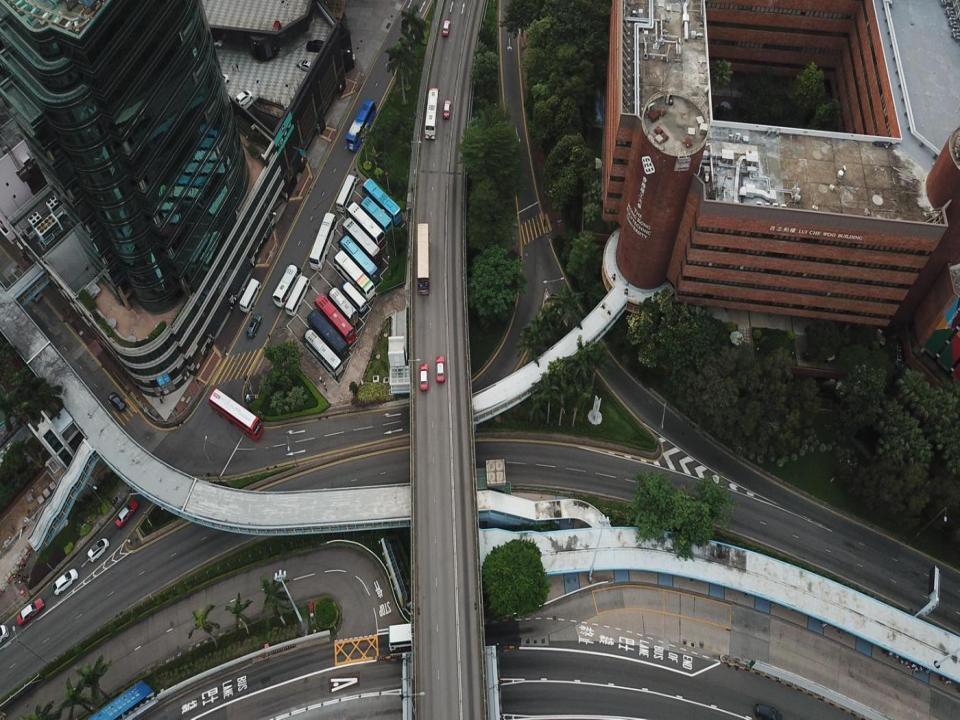bus: (208, 387, 264, 442), (332, 250, 376, 305), (388, 620, 455, 656), (313, 292, 356, 346), (337, 235, 380, 287), (344, 200, 386, 250), (306, 309, 348, 359), (361, 177, 402, 227), (341, 216, 382, 266), (302, 327, 343, 377), (346, 98, 378, 152), (309, 213, 338, 270), (271, 263, 302, 308), (326, 286, 360, 327), (361, 195, 394, 236), (284, 275, 310, 317), (340, 279, 368, 314), (416, 223, 429, 295), (423, 87, 440, 139), (336, 173, 357, 214), (238, 278, 260, 312)
car: (15, 597, 44, 625), (52, 568, 78, 595), (114, 500, 138, 527), (108, 391, 126, 411), (212, 73, 229, 89), (236, 90, 252, 107), (28, 285, 43, 302), (298, 60, 314, 72), (206, 38, 223, 48), (442, 19, 450, 37), (443, 100, 450, 119)
van: (87, 537, 110, 563), (245, 314, 262, 338), (755, 704, 781, 719), (306, 39, 326, 51), (272, 20, 283, 38)
